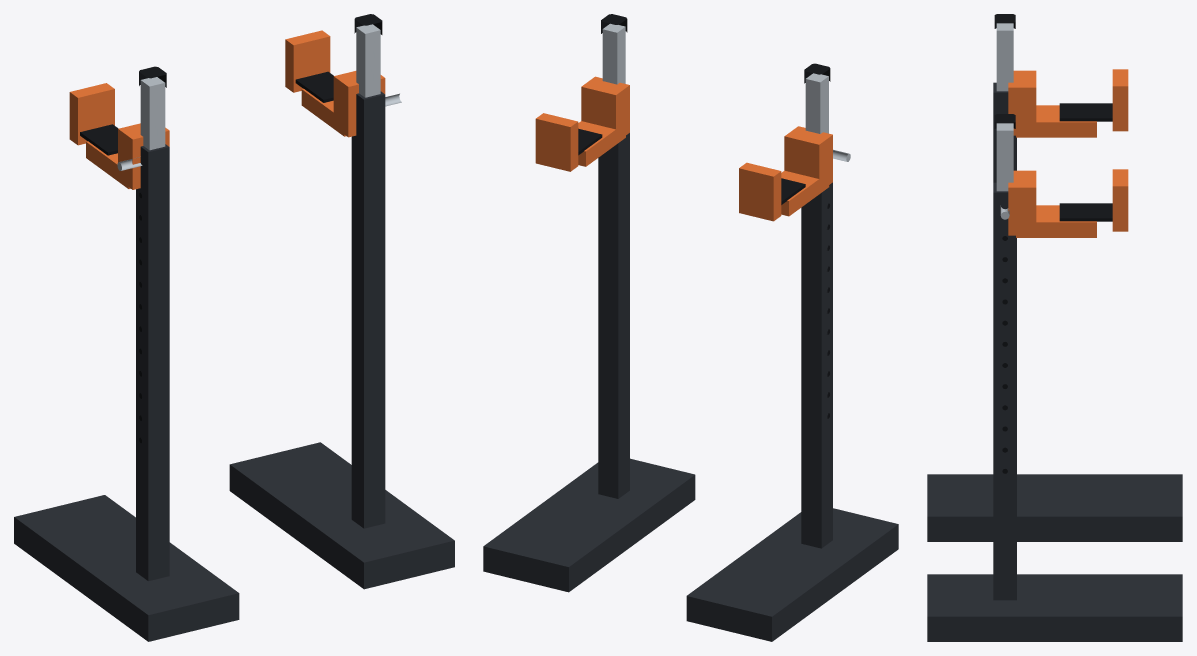
Rendered from harbor-squat-stands.glb.
3 views of the same model, side by side, from view 1: azimuth 30°, elevation 25°; view 2: azimuth 150°, elevation 25°; view 3: azimuth 270°, elevation 25° (orthographic). The views are drawn at different scales.
Visible parts, largest first — view 1: Graphite powder coat parts, Kiln orange powder coat parts, Zinc hardware parts, Black rubber parts; view 2: Graphite powder coat parts, Kiln orange powder coat parts, Zinc hardware parts, Black rubber parts; view 3: Graphite powder coat parts, Kiln orange powder coat parts, Black rubber parts, Zinc hardware parts.
Boxes of the visible parts, box(x1,y1,x2,y2) form: Graphite powder coat parts: box(14, 91, 454, 641); Kiln orange powder coat parts: box(69, 30, 385, 189); Zinc hardware parts: box(117, 24, 401, 170); Black rubber parts: box(80, 14, 382, 443); Graphite powder coat parts: box(483, 133, 898, 641); Kiln orange powder coat parts: box(535, 76, 832, 221); Zinc hardware parts: box(602, 23, 850, 161); Black rubber parts: box(578, 14, 830, 418); Graphite powder coat parts: box(927, 82, 1182, 641); Kiln orange powder coat parts: box(1008, 69, 1128, 237); Black rubber parts: box(994, 14, 1112, 473); Zinc hardware parts: box(996, 23, 1013, 219).
Size of the model in its own units: 1.08 by 1.78 by 0.82.
